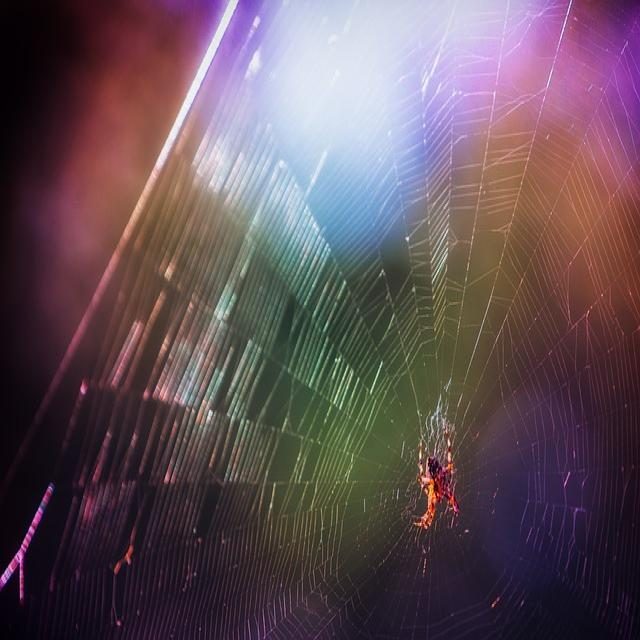spyder: (416, 424, 459, 551)
